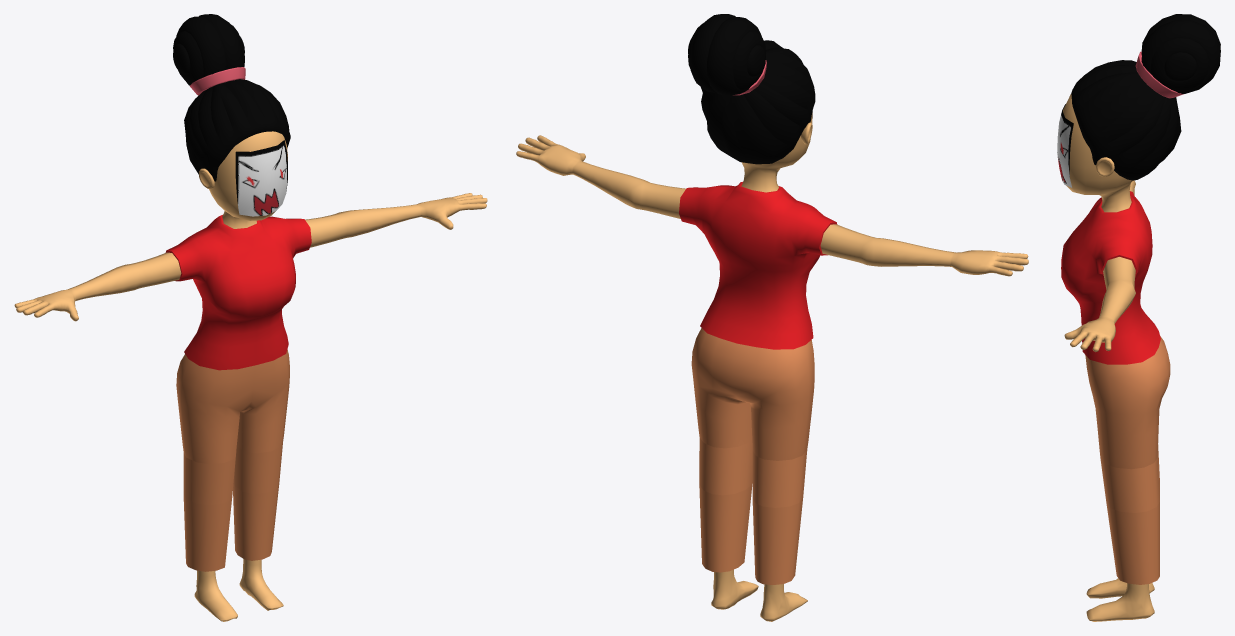
File: ibuk marah tanpa bone.fbx
3 views of the same model, side by side, from view 1: azimuth 30°, elevation 25°; view 2: azimuth 150°, elevation 25°; view 3: azimuth 270°, elevation 25° (orthographic). The views are drawn at different scales.
Visible parts, largest first — view 1: Female_shorts, Female_body, Female_tshirt, Female_hair; view 2: Female_shorts, Female_tshirt, Female_hair, Female_body; view 3: Female_hair, Female_shorts, Female_tshirt, Female_body.
Boxes of the visible parts, box(x1,y1,x2,y2) form: Female_shorts: box(176, 349, 289, 571); Female_body: box(14, 131, 487, 621); Female_tshirt: box(165, 215, 311, 370); Female_hair: box(173, 14, 290, 181); Female_shorts: box(691, 328, 814, 584); Female_tshirt: box(679, 182, 837, 349); Female_hair: box(688, 14, 815, 164); Female_body: box(516, 111, 1028, 621); Female_hair: box(1071, 14, 1220, 180); Female_shorts: box(1085, 336, 1170, 584); Female_tshirt: box(1061, 191, 1160, 364); Female_body: box(1057, 94, 1154, 621).
Bounding box in the file's own units: 153 × 178 × 44.81.
Materials: 6 (1 with a texture image).
